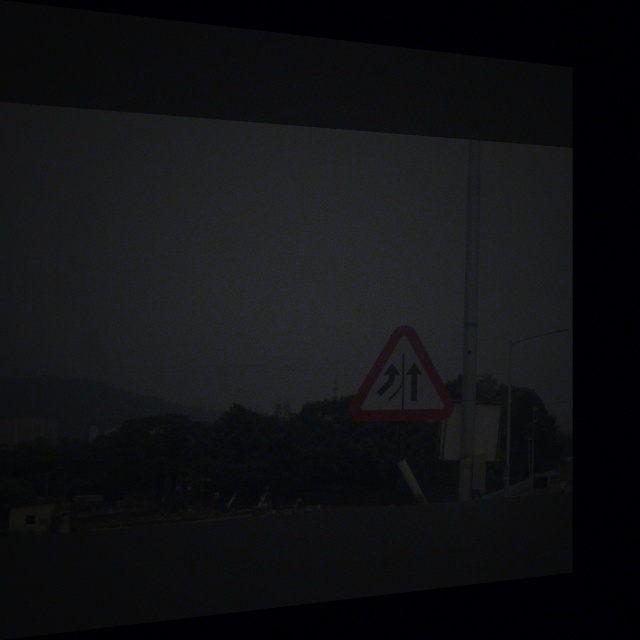Merge_Traffic_Ahead: (347, 326, 459, 428)
